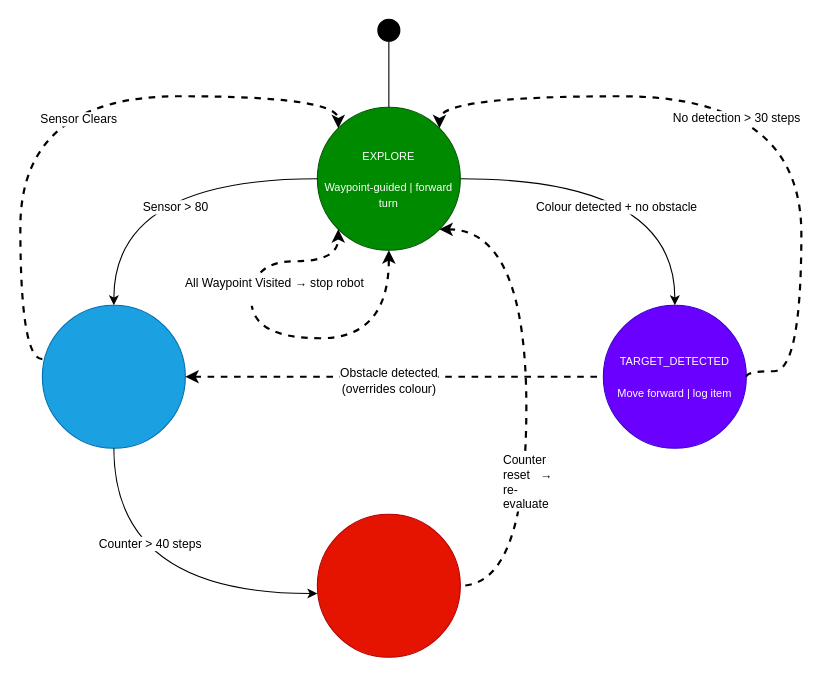
The diagram is 821 pixels wide and 677 high, and some of its shapes have lost their labels. The shapes that lost their labels are listed below. From the top down, each one's box as (x1, y1, x2, y2) in pixels, then its label:
(41, 304, 185, 448): AVOID_OBSTACLE t urn away from threat side
(316, 513, 460, 657): RECOVERY Reverse + turn right
